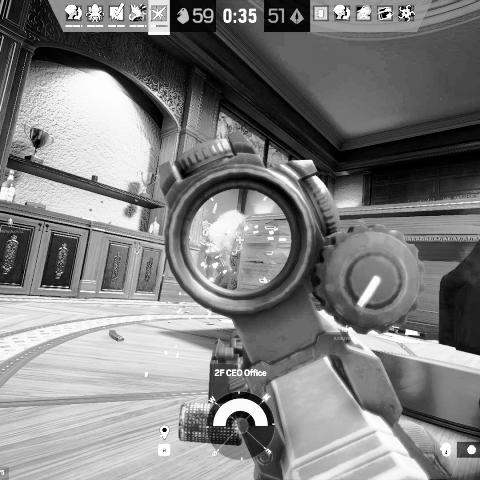Character: (203, 216, 226, 288)
